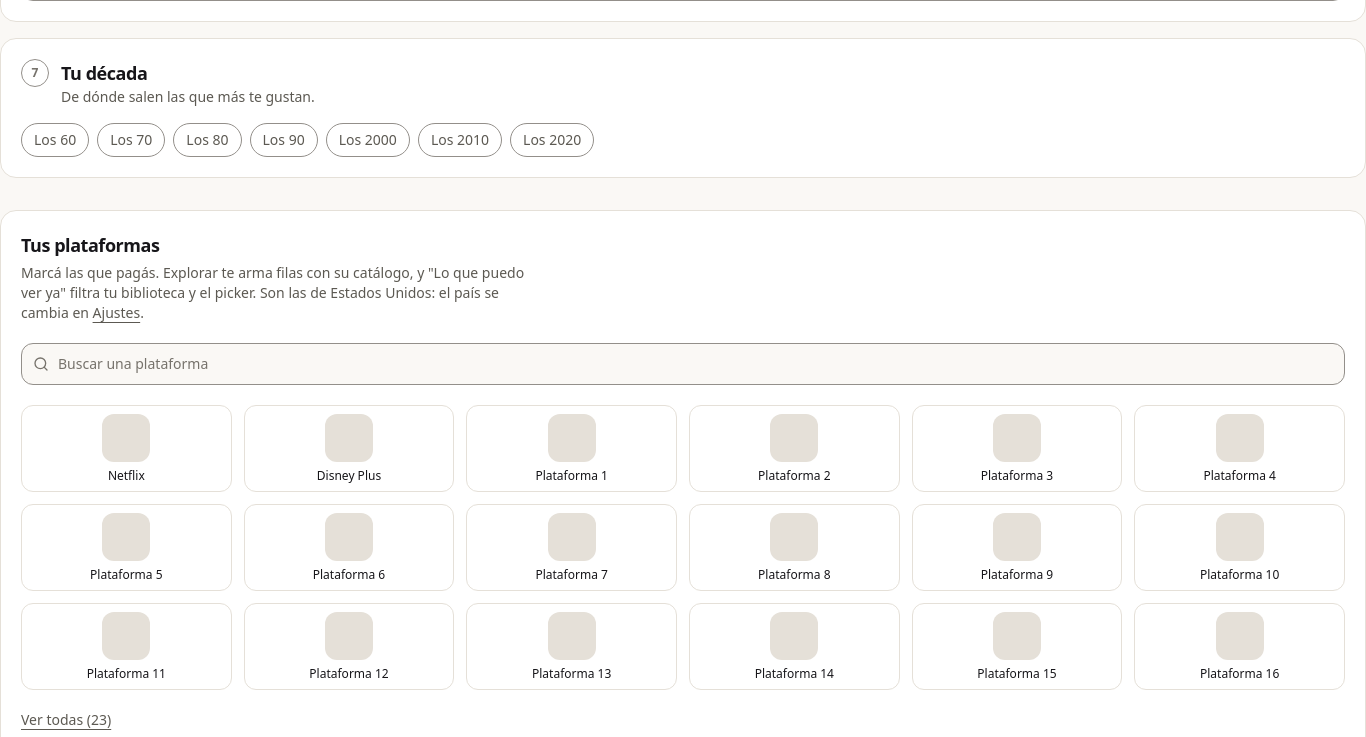
Scenario: Contanos de vos › Tus plataformas › busca en todas, no solo en las de la primera página
The width and height of the screenshot is (1366, 737).
(page scrolled)
expect the button "Netflix" is shown: met, box [21, 405, 232, 492]
expect the button "MUBI" is not shown: met
Type "mubi" into the search field labelled "Buscar una plataforma" at (683, 364), box [21, 343, 1345, 385]
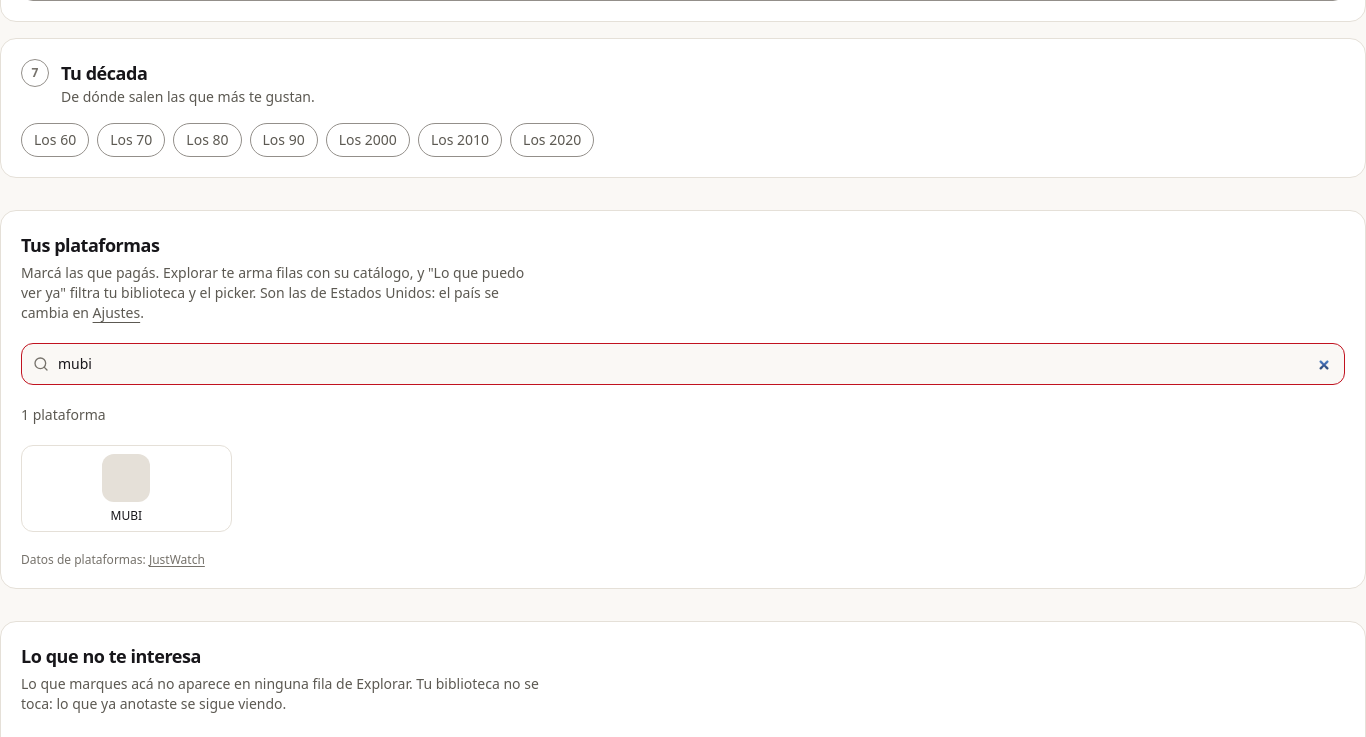
expect the button "MUBI" is shown: met, box [21, 445, 232, 532]
expect the button "Netflix" is gone: met
expect the button "Ver todas" is gone: met
